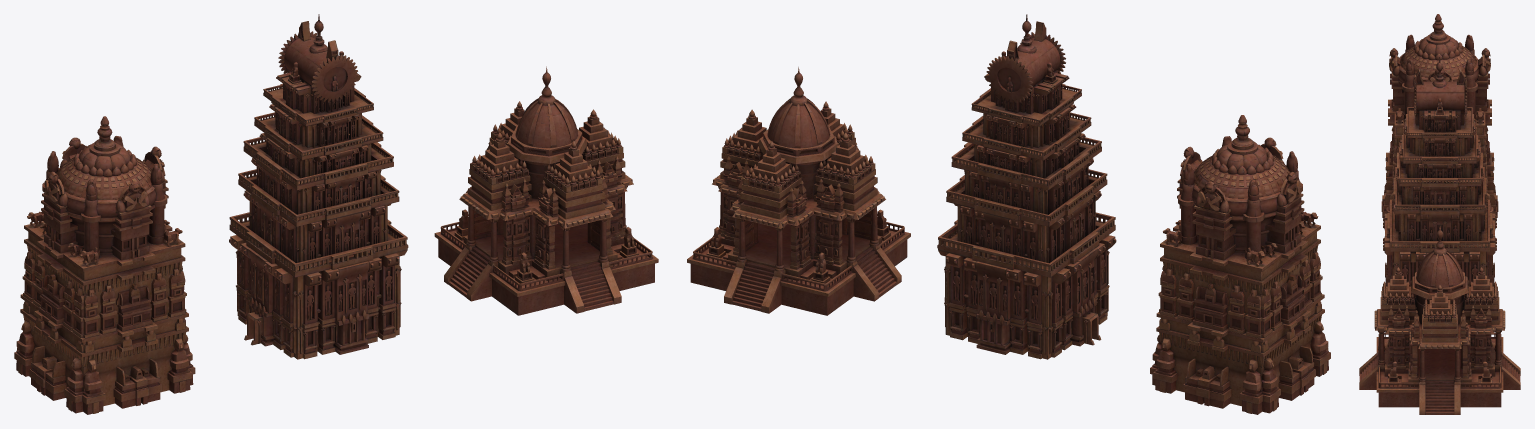
File: temples.glb
3 views of the same model, side by side, from view 1: azimuth 30°, elevation 25°; view 2: azimuth 150°, elevation 25°; view 3: azimuth 270°, elevation 25° (orthographic). The views are drawn at different scales.
Visible parts, largest first — view 1: Cube.303_Temple_03_0, Cube.051_Temple_01_0, Plane.017_Temple_02_0; view 2: Cube.303_Temple_03_0, Cube.051_Temple_01_0, Plane.017_Temple_02_0; view 3: Plane.017_Temple_02_0, Cube.303_Temple_03_0, Cube.051_Temple_01_0.
Part boxes in pixels (x1,y1,x2,y2): Cube.303_Temple_03_0: (229, 14, 408, 359); Cube.051_Temple_01_0: (14, 116, 195, 414); Plane.017_Temple_02_0: (434, 66, 658, 315); Cube.303_Temple_03_0: (937, 14, 1116, 359); Cube.051_Temple_01_0: (1150, 115, 1330, 414); Plane.017_Temple_02_0: (687, 67, 910, 315); Plane.017_Temple_02_0: (1359, 226, 1520, 414); Cube.303_Temple_03_0: (1383, 57, 1496, 286); Cube.051_Temple_01_0: (1381, 14, 1498, 217).
Bounding box in the file's own units: 4857 × 2425 × 1480.
3 materials, 3 textured.
